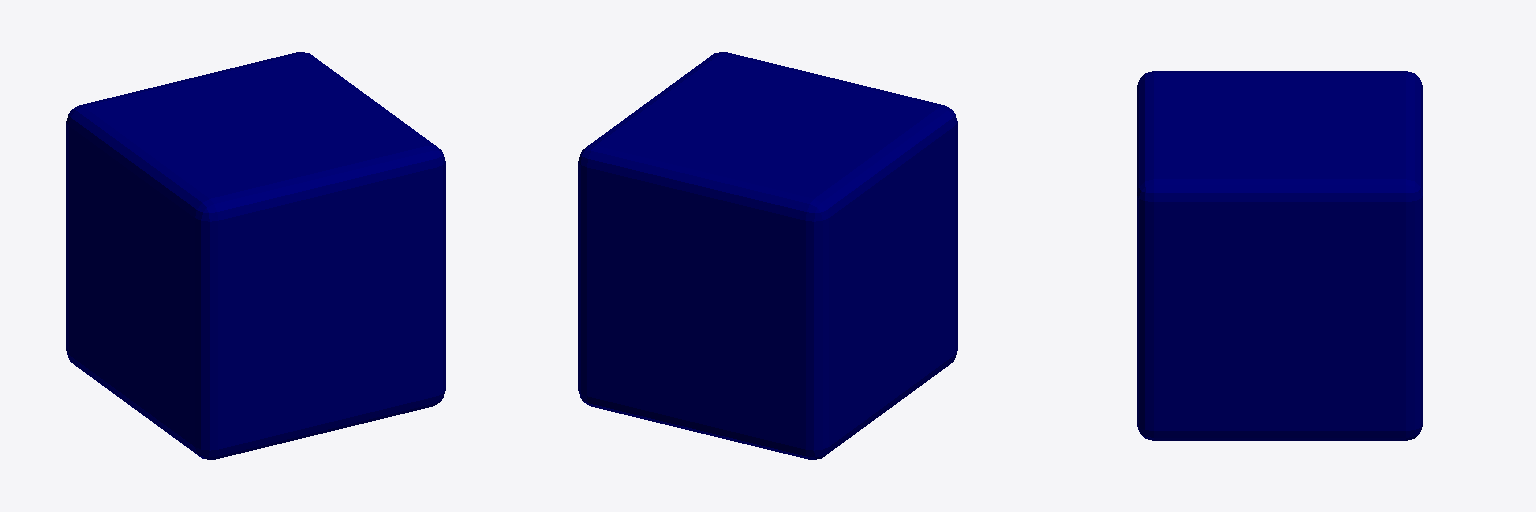
File: Player.obj
3 views of the same model, side by side, from view 1: azimuth 30°, elevation 25°; view 2: azimuth 150°, elevation 25°; view 3: azimuth 270°, elevation 25° (orthographic).
Visible parts, largest first — view 1: Player; view 2: Player; view 3: Player.
Boxes of the visible parts, <box> form: Player: <box>66,52,445,459</box>; Player: <box>578,52,957,459</box>; Player: <box>1137,71,1422,440</box>.
Size of the model in its own units: 1 by 1 by 1.